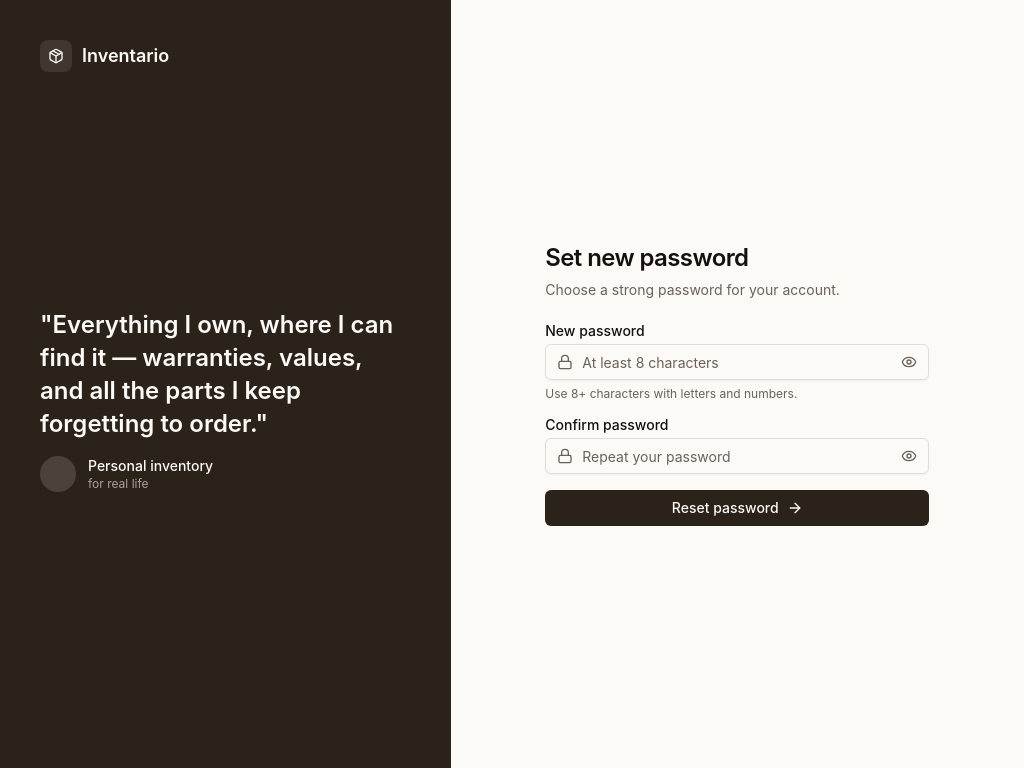
Test case: <ResetPasswordPage /> › surfaces password mismatch error on the confirm field
Type "longenough" into the password field with test id "password" at (737, 362), box [545,344,929,380]
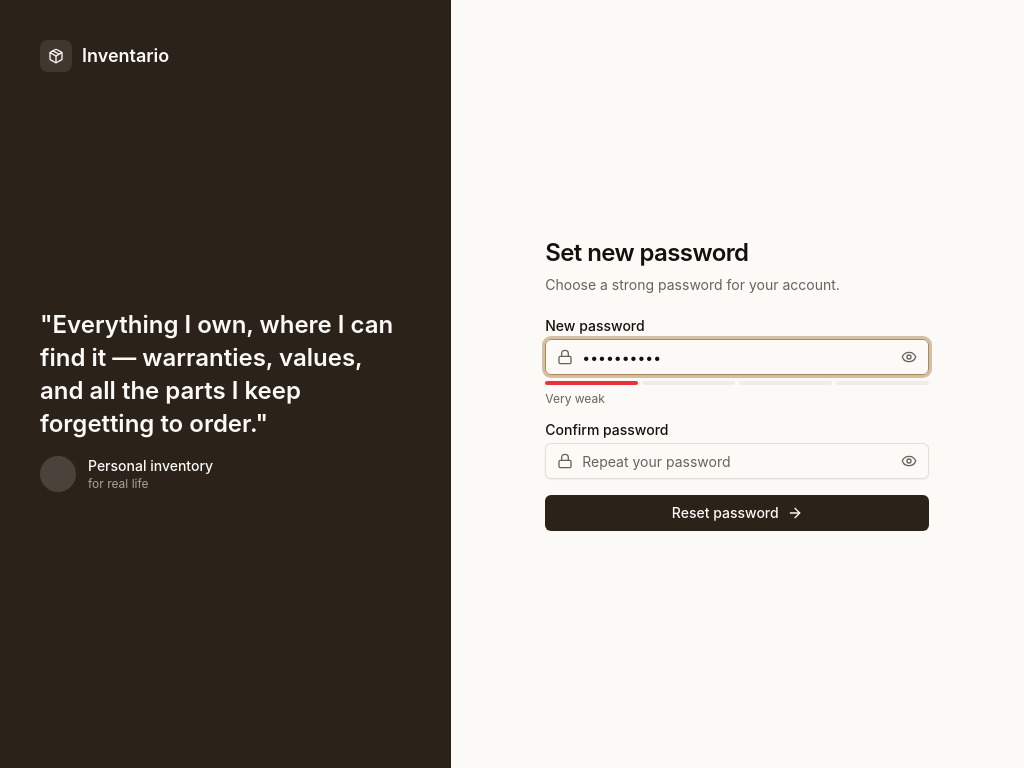
Type "different1" into the password field with test id "confirm-password" at (737, 461), box [545,443,929,479]
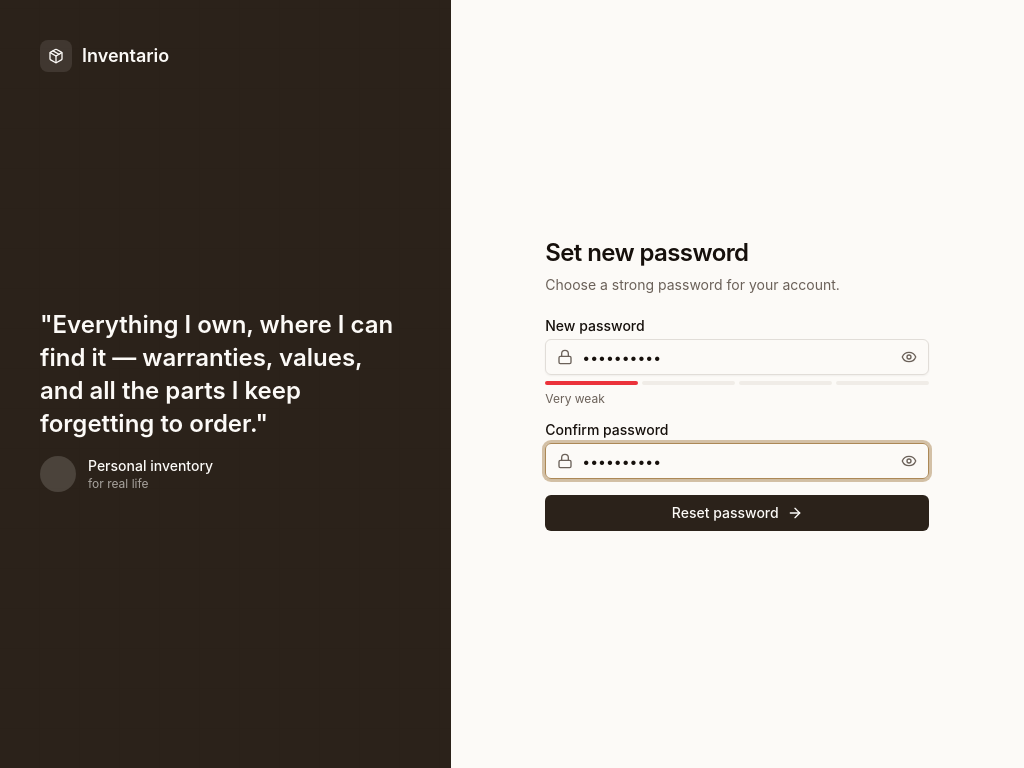
Click the button with test id "submit-button" at (737, 513), box [545,495,929,531]
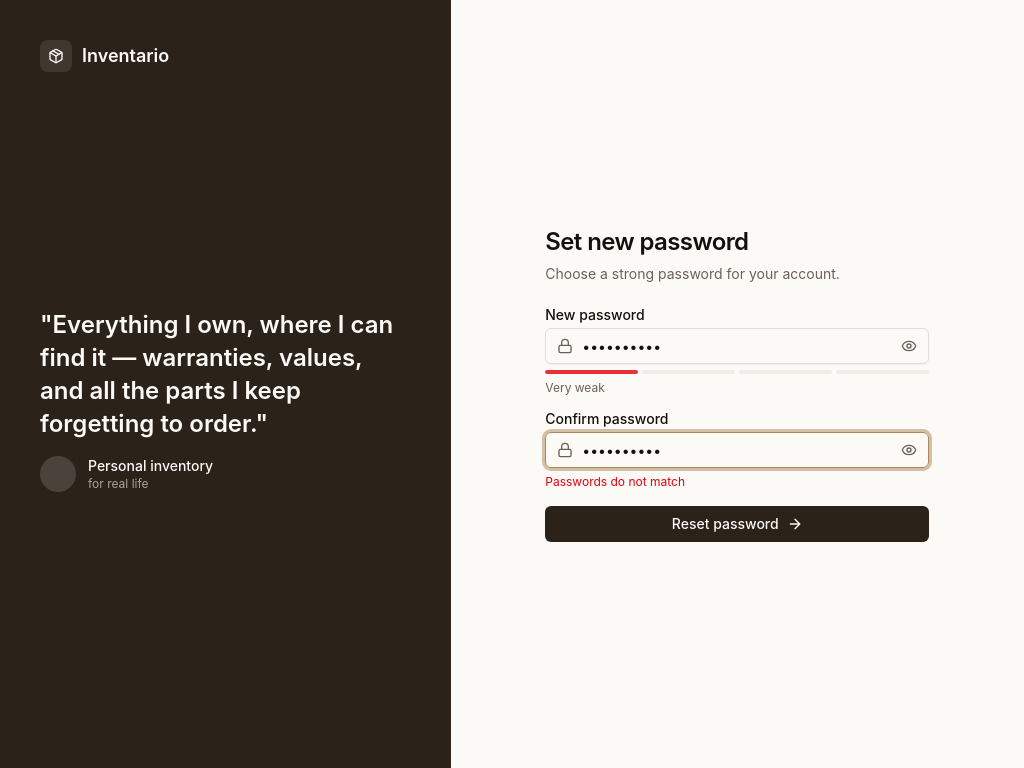
Check: the text with test id "confirm-password-error" shows "match", box [545,474,685,489]
